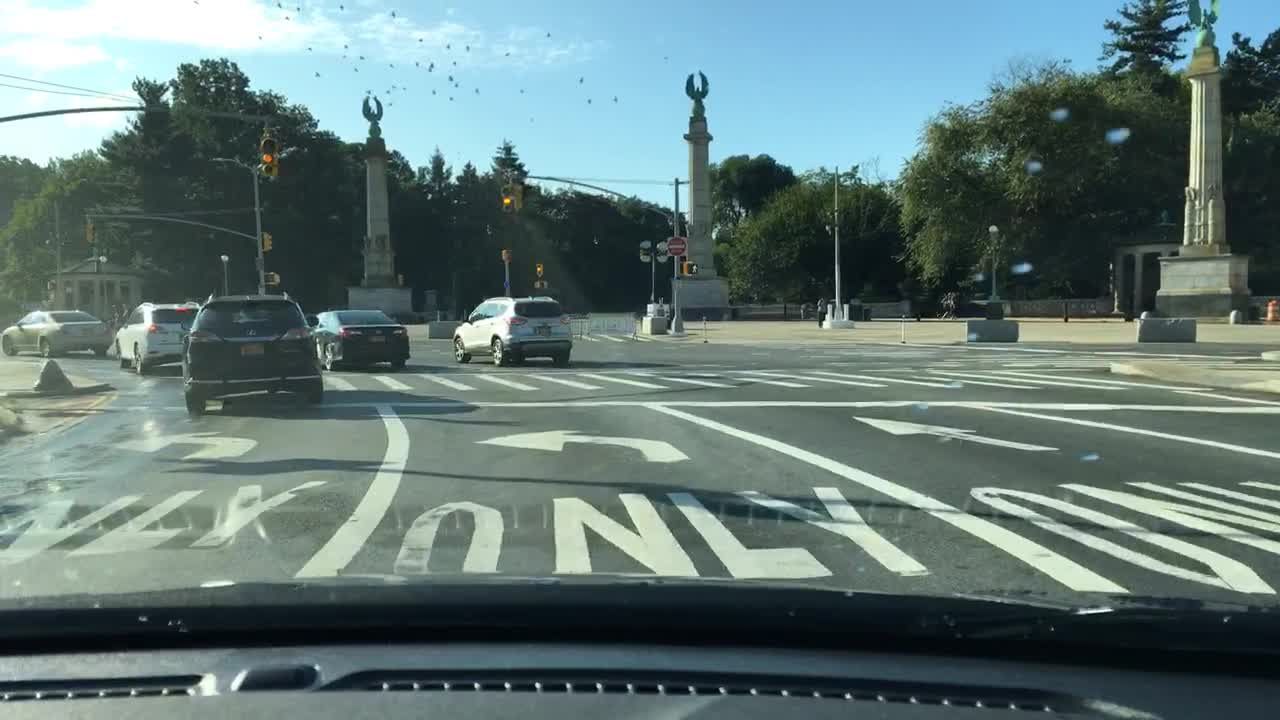car: (184, 291, 325, 413), (451, 294, 573, 367), (104, 295, 211, 362), (311, 304, 411, 368), (3, 306, 113, 361)
person: (815, 294, 828, 327), (944, 286, 956, 314), (938, 292, 950, 318), (120, 299, 131, 323), (108, 302, 119, 326)
traffic light: (258, 129, 279, 182), (83, 218, 100, 242), (499, 185, 514, 210), (681, 259, 700, 277), (264, 270, 282, 285), (260, 230, 272, 250), (533, 260, 545, 278), (501, 248, 513, 261)
traffic sign: (665, 236, 688, 256)
